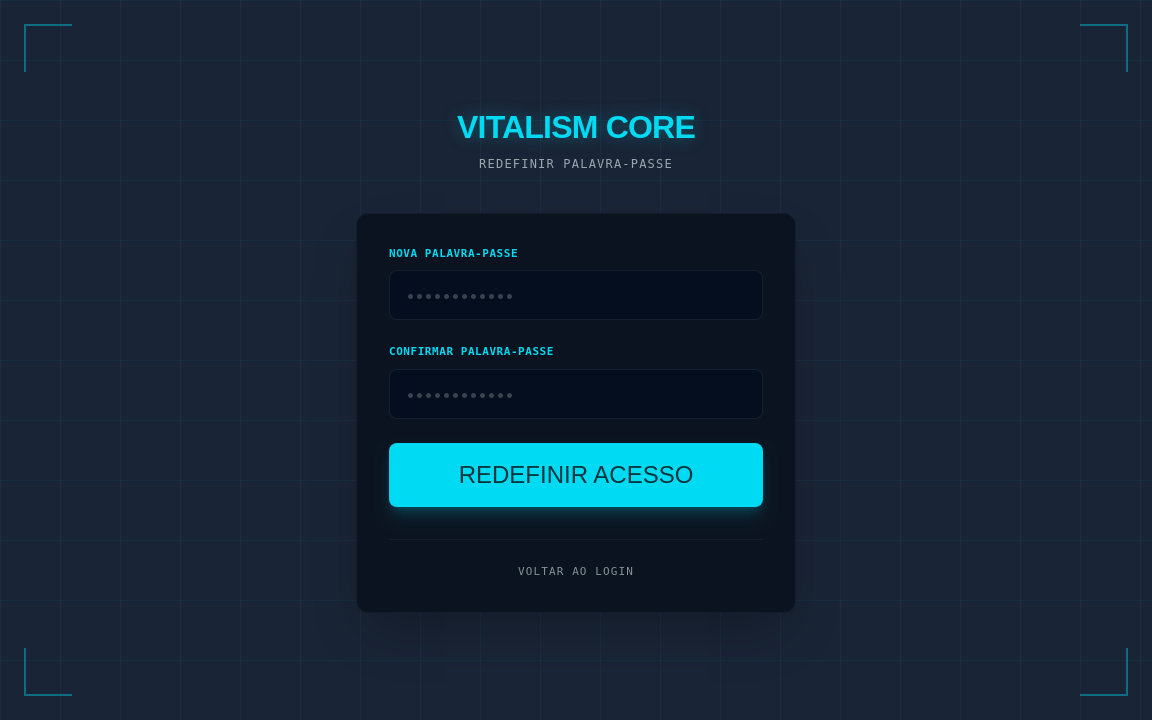
Test case: ResetPassword Component › handles successful password reset, hides form and navigates to login after 3s
Type "newSecurePass" into the password field labelled "Nova Palavra-passe" at x=576, y=295, box x1=389 y1=270 x2=763 y2=320
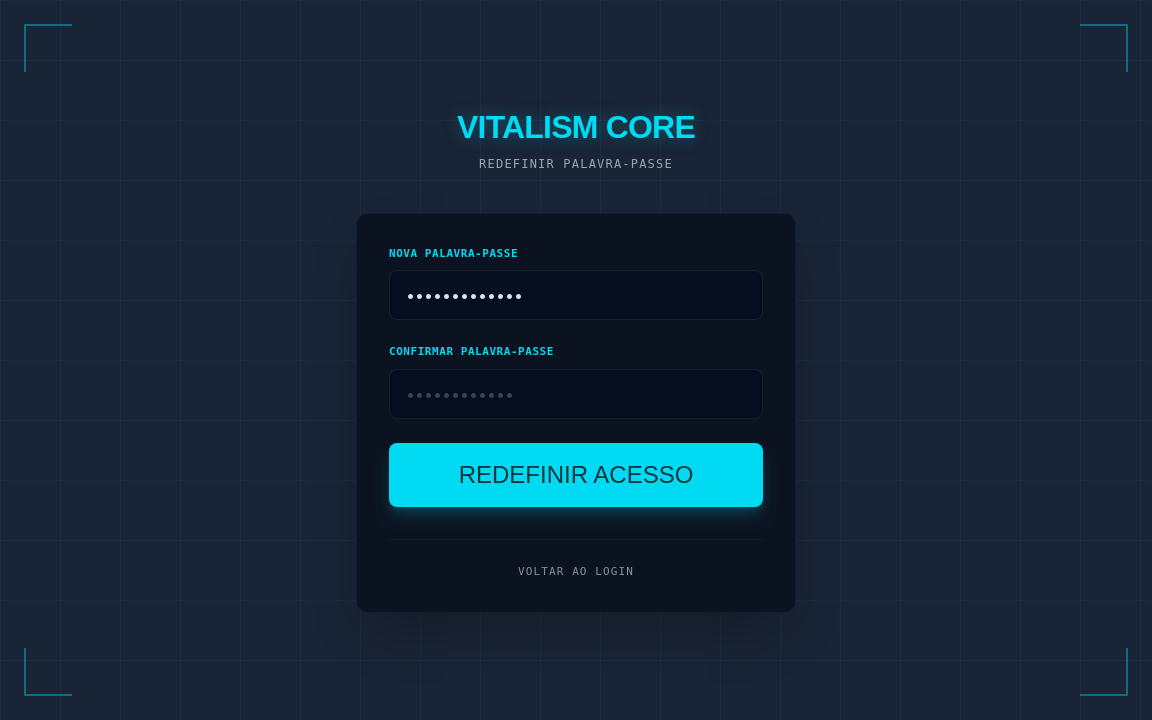
Type "newSecurePass" into the password field labelled "Confirmar Palavra-passe" at x=576, y=394, box x1=389 y1=369 x2=763 y2=419
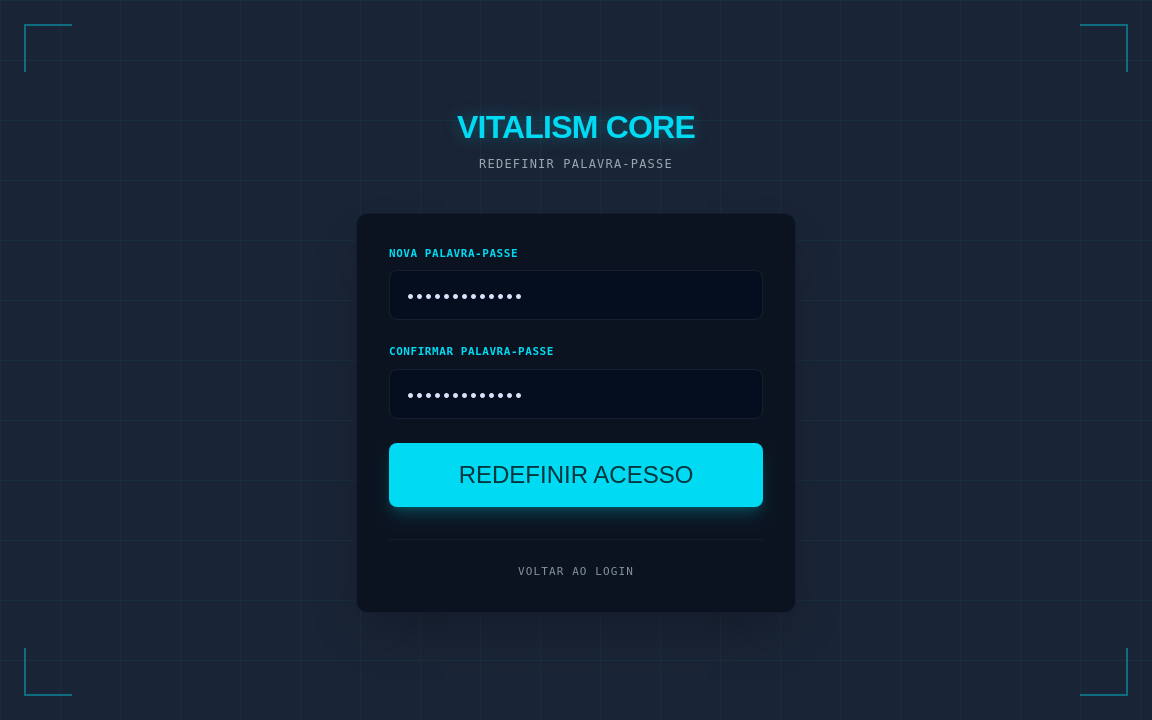
Click the button "REDEFINIR ACESSO" at x=576, y=475, box x1=389 y1=443 x2=763 y2=507
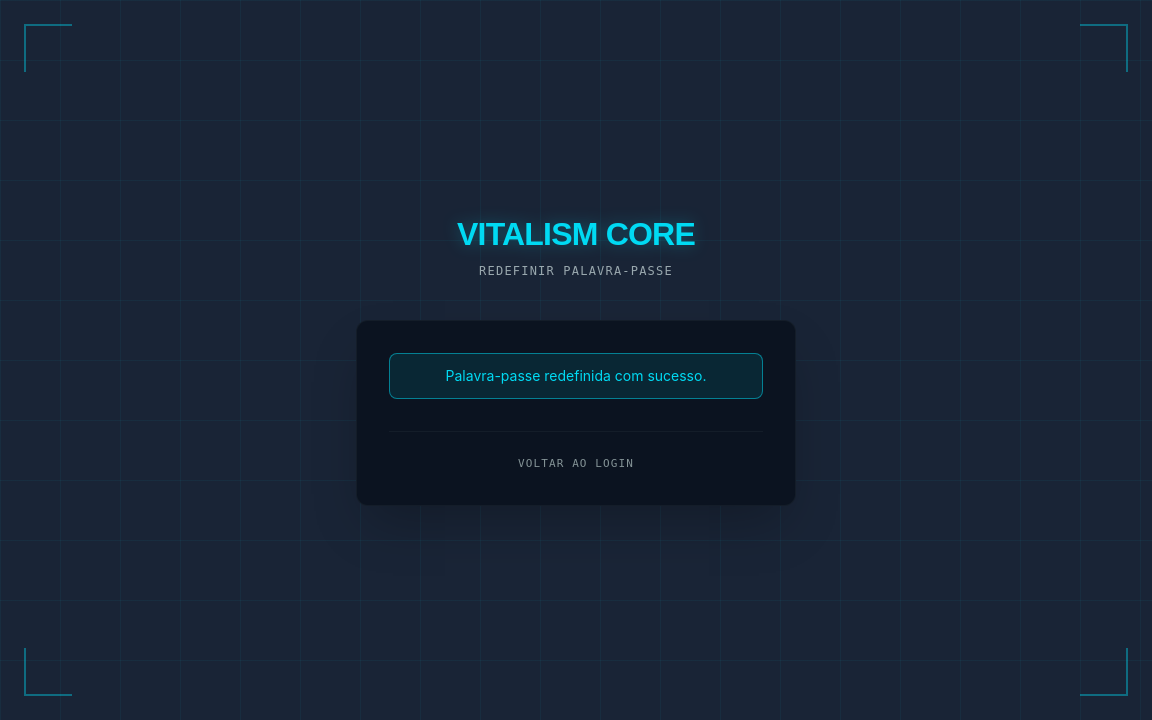
Expected: the text "Palavra-passe redefinida com sucesso." is shown, x1=389 y1=353 x2=763 y2=399
Expected: the label labelled "Nova Palavra-passe" is gone
